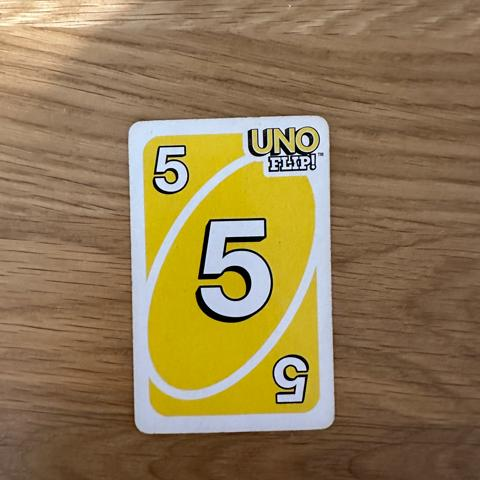lyellow-5: (137, 129, 211, 212)
